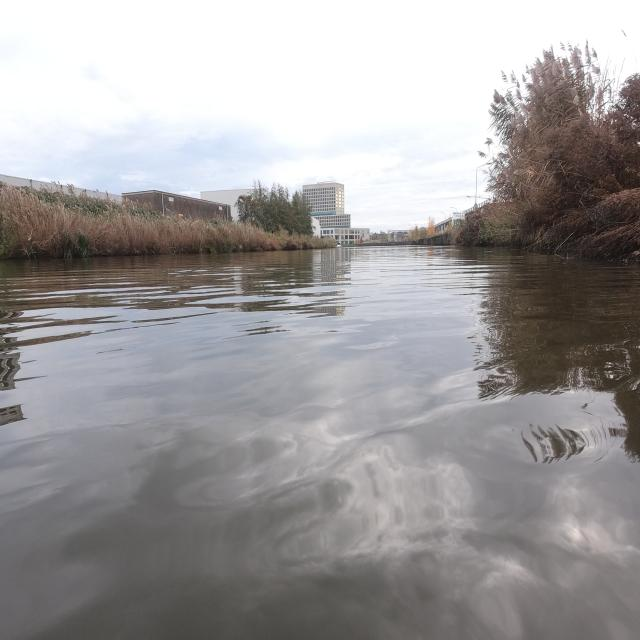reed: (460, 44, 640, 259), (0, 186, 333, 258)
water: (0, 247, 640, 640)
